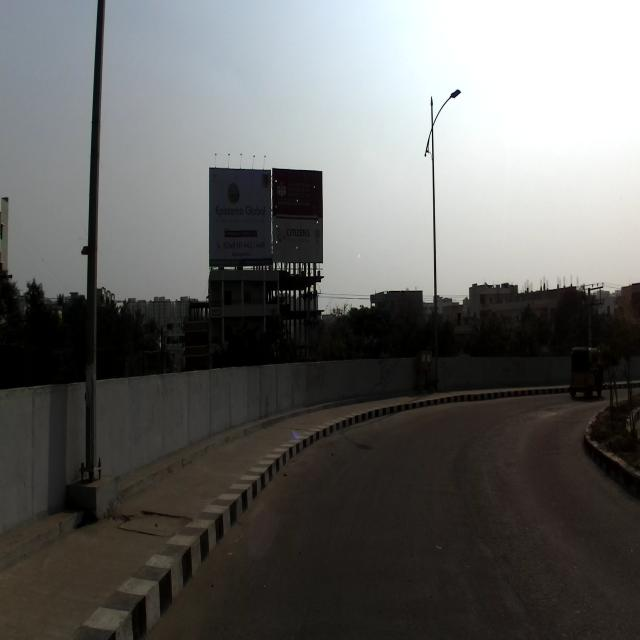electric pole ahead at: (76, 1, 125, 477)
